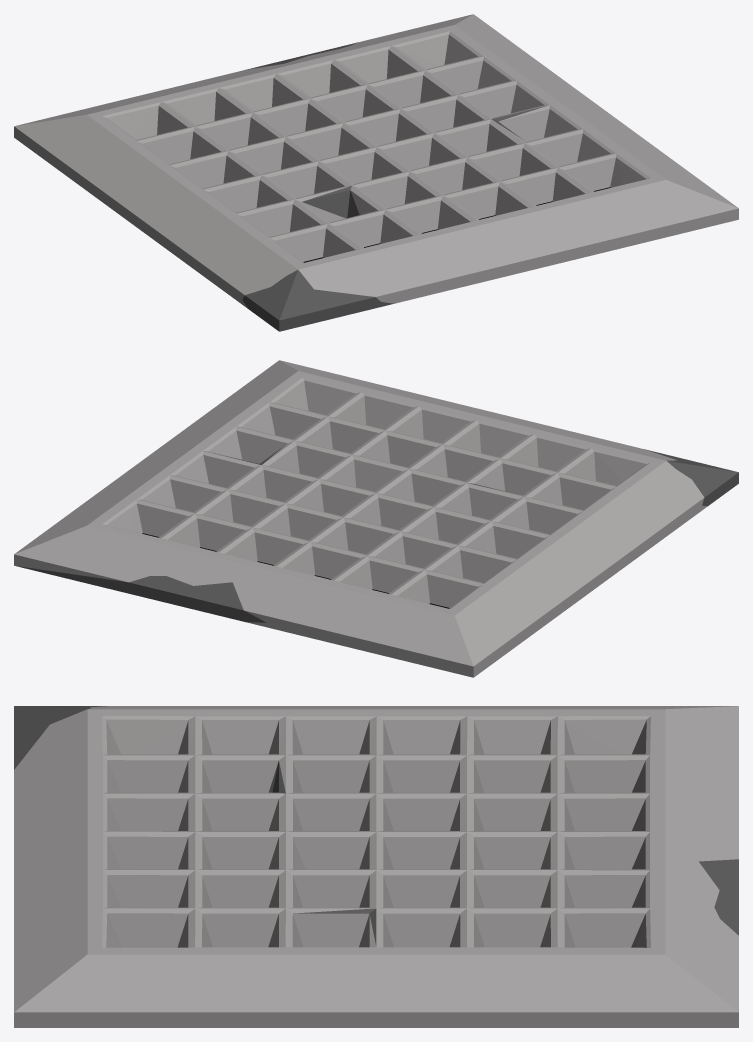
Rendered from SMLSpikeMetalGrate.fbx.
The picture shows the model from 3 angles, top to bottom: view 1: azimuth 30°, elevation 25°; view 2: azimuth 150°, elevation 25°; view 3: azimuth 270°, elevation 25°; orthographic projection. The views are drawn at different scales.
Visible parts, largest first — view 1: SMLSpikeMetalGrate; view 2: SMLSpikeMetalGrate; view 3: SMLSpikeMetalGrate.
Boxes of the visible parts, x1,y1,x2,y2 form: SMLSpikeMetalGrate: (14,14,738,331); SMLSpikeMetalGrate: (14,360,738,677); SMLSpikeMetalGrate: (14,706,738,1027).
Bounding box in the file's own units: 119 × 7.75 × 119.
